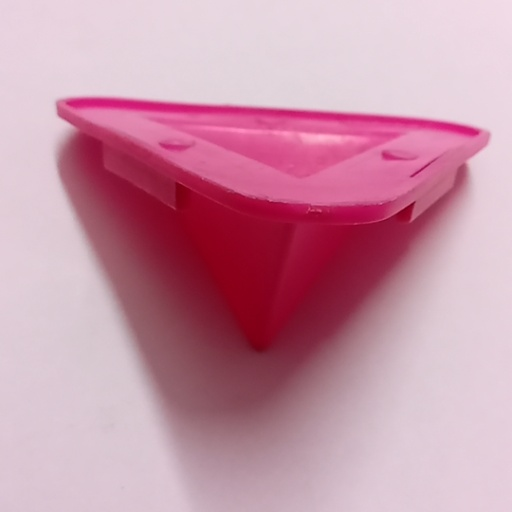pink_cone: (28, 48, 495, 392)
